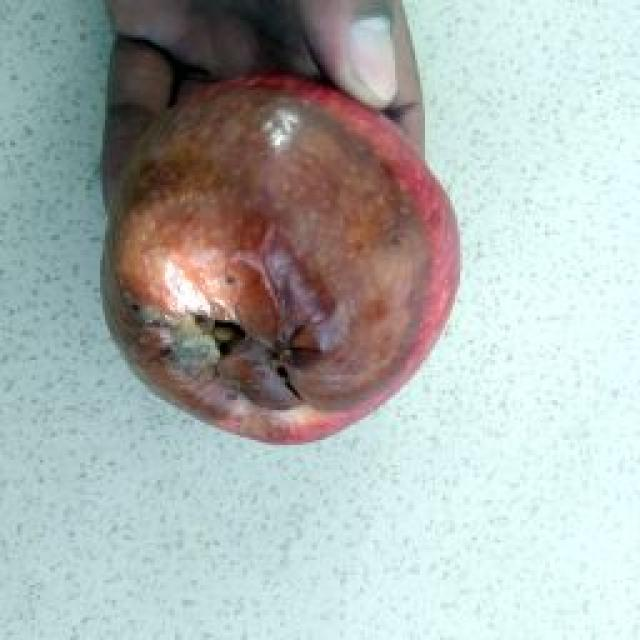Bad_Apple: (106, 75, 458, 441)
